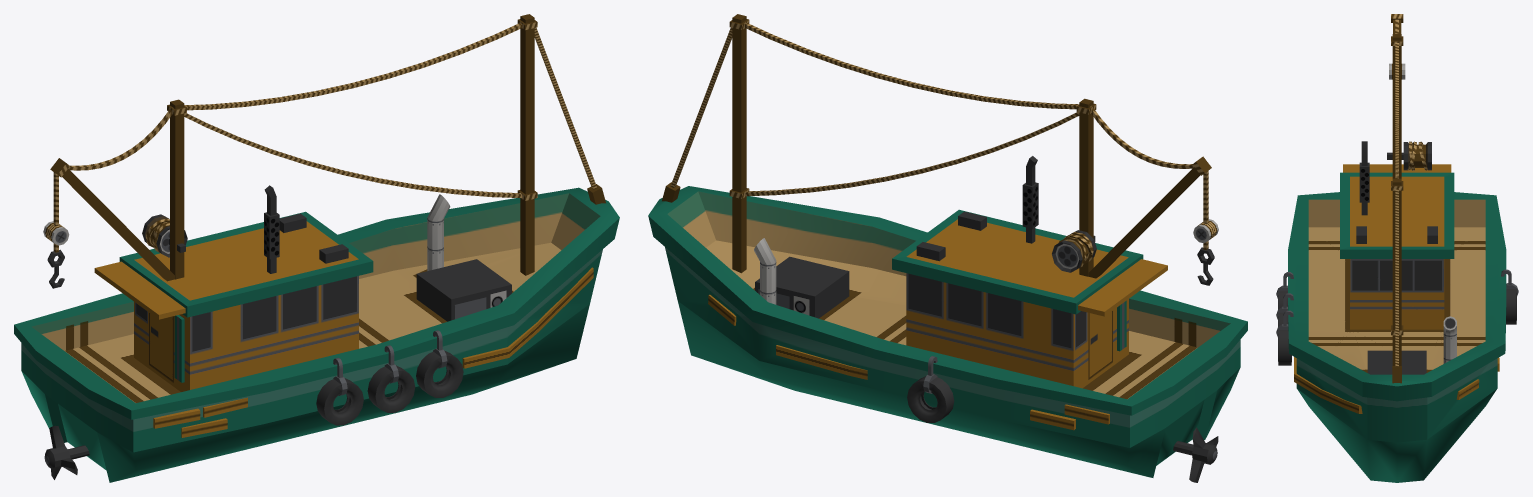
Rendered from 30b9edb3-9a89-4146-acf7-43341d51178c.glb.
3 views of the same model, side by side, from view 1: azimuth 30°, elevation 25°; view 2: azimuth 150°, elevation 25°; view 3: azimuth 270°, elevation 25° (orthographic). The views are drawn at different scales.
Parts seen in each view (by area): view 1: Boat; view 2: Boat; view 3: Boat.
Boxes of the visible parts, x1,y1,x2,y2 form: Boat: (14,14,619,482); Boat: (648,14,1247,482); Boat: (1276,14,1518,482).
Size of the model in its own units: 929 by 558 by 410.
Materials: 1 (1 with a texture image).
